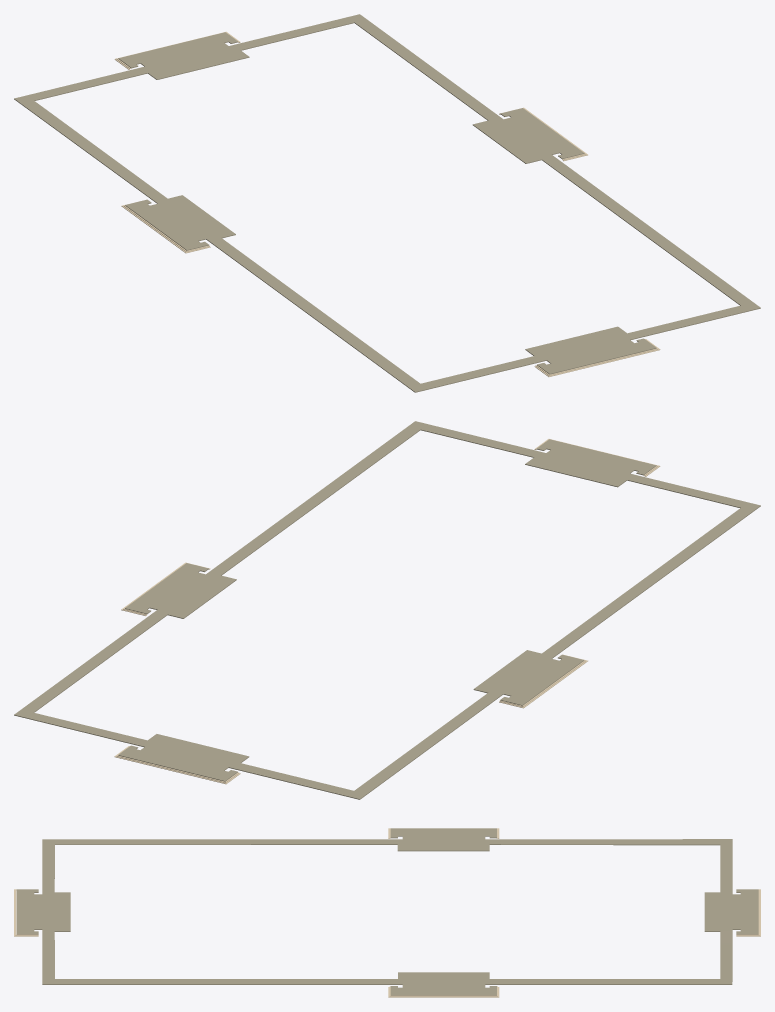
File: Ground2.glb
3 views of the same model, one above another, from view 1: azimuth 30°, elevation 25°; view 2: azimuth 150°, elevation 25°; view 3: azimuth 270°, elevation 25° (orthographic). The views are drawn at different scales.
Visible parts, largest first — view 1: Ground2(Clone); view 2: Ground2(Clone); view 3: Ground2(Clone).
Boxes of the visible parts, <box> form: Ground2(Clone): <box>14,14,760,392</box>; Ground2(Clone): <box>14,421,760,799</box>; Ground2(Clone): <box>14,828,760,997</box>.
Bounding box in the file's own units: 165 × 0.68 × 308.
